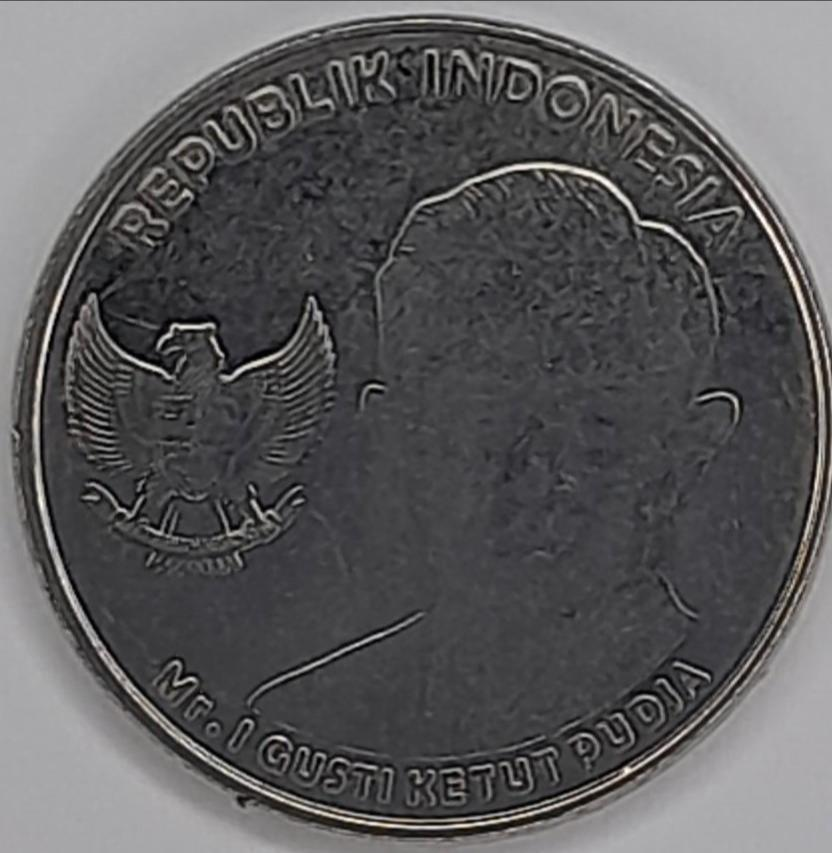coin_1000_e2016: (14, 17, 821, 853)
